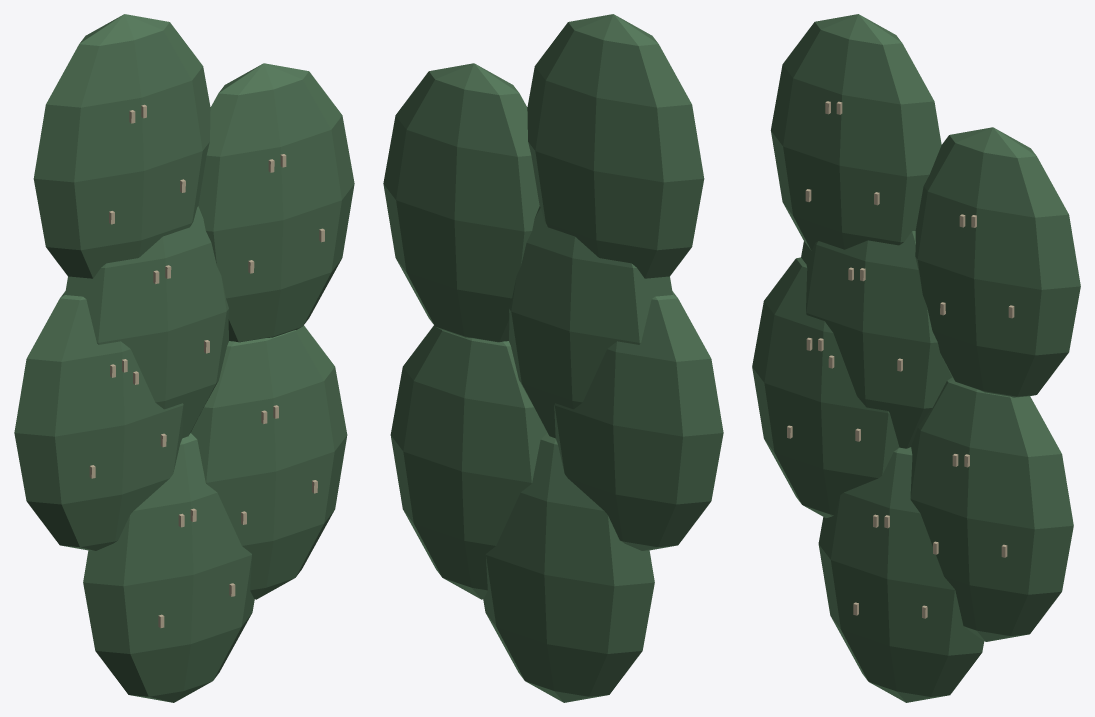
Rendered from vegetation-cactus-paddle.lod1.glb.
3 views of the same model, side by side, from view 1: azimuth 30°, elevation 25°; view 2: azimuth 150°, elevation 25°; view 3: azimuth 330°, elevation 25° (orthographic). The views are drawn at different scales.
Visible parts, largest first — view 1: vegetation-cactus-paddle__body; view 2: vegetation-cactus-paddle__body; view 3: vegetation-cactus-paddle__body.
Part boxes in pixels (x1,y1,x2,y2): vegetation-cactus-paddle__body: (14,14,354,702); vegetation-cactus-paddle__body: (383,14,723,702); vegetation-cactus-paddle__body: (752,14,1080,702).
Size of the model in its own units: 1.2 by 2.36 by 0.2467.
